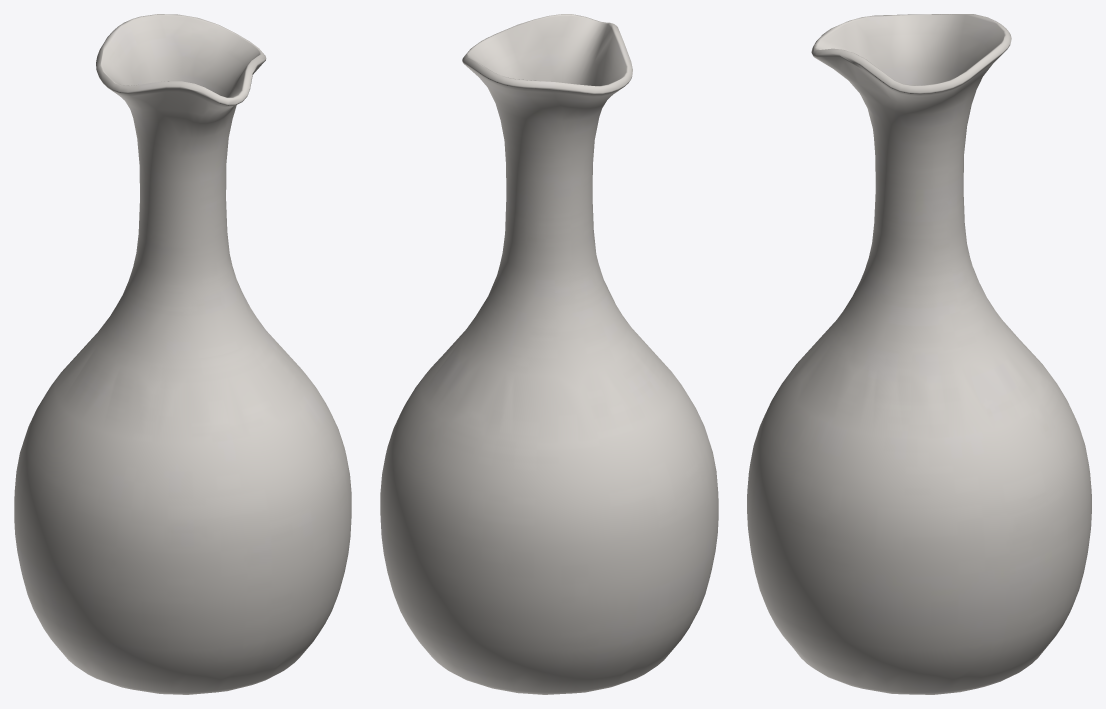
The model's file is ceramic_vase_01.glb.
3 renders of one model, left to right at view 1: azimuth 30°, elevation 25°; view 2: azimuth 150°, elevation 25°; view 3: azimuth 270°, elevation 25°, orthographic. The views are drawn at different scales.
Parts seen in each view (by area): view 1: ceramic_vase_01; view 2: ceramic_vase_01; view 3: ceramic_vase_01.
Part boxes in pixels (bbox=[...]): ceramic_vase_01: bbox=[14, 14, 351, 694]; ceramic_vase_01: bbox=[380, 14, 718, 694]; ceramic_vase_01: bbox=[747, 14, 1091, 694].
Size of the model in its own units: 0.2036 by 0.4003 by 0.2036.
1 material, 1 textured.
